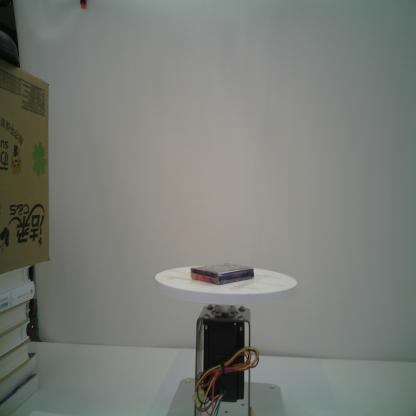Gum: (189, 261, 255, 286)
